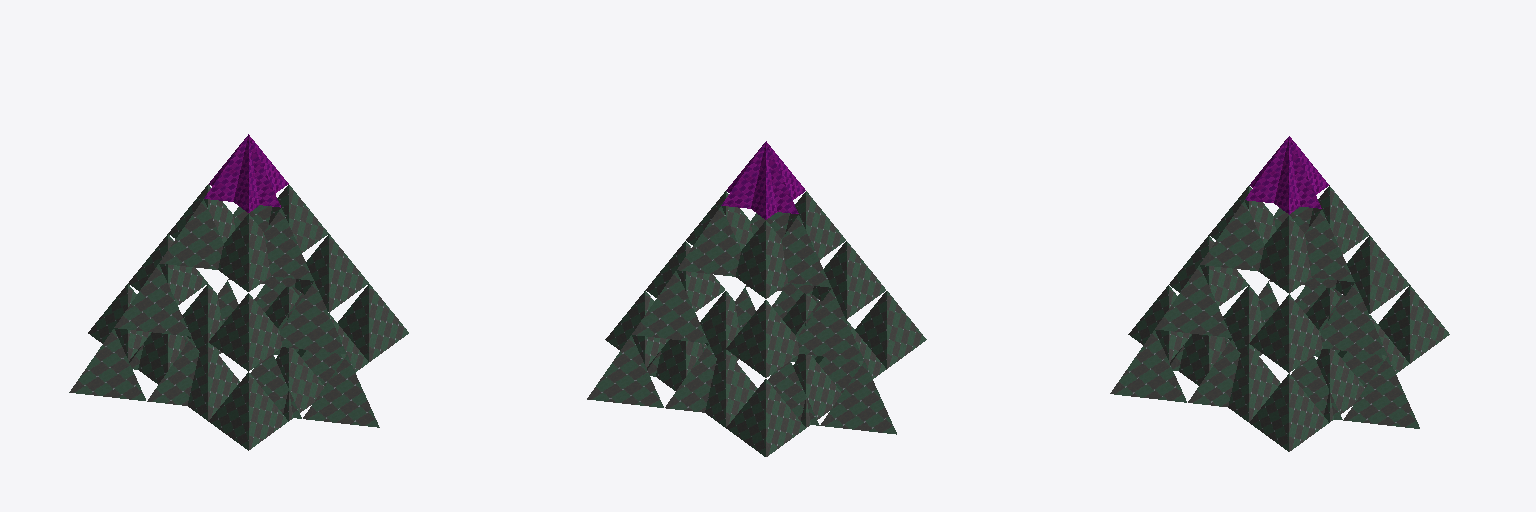
3 views of the same model, side by side, from view 1: azimuth 30°, elevation 25°; view 2: azimuth 150°, elevation 25°; view 3: azimuth 270°, elevation 25° (orthographic).
Visible parts, largest first — view 1: Solid.013_Solid.018, Solid.012_Solid.017, Solid.002, Solid.001, Solid.011_Solid.001, Solid.010_Solid.001, Solid.013_Solid.001, Solid.005_Solid.006, Solid.012_Solid.001, Solid.000_Solid.001, Solid.014_Solid.019, Solid.005_Solid.001 (+15 smaller); view 2: Solid.010_Solid.015, Solid.011_Solid.016, Solid.013_Solid.018, Solid.007, Solid.008, Solid.010_Solid.001, Solid.012_Solid.017, Solid.011_Solid.001, Solid.000_Solid.005, Solid.006_Solid.001, Solid.009_Solid.014, Solid.000_Solid.001 (+15 smaller); view 3: Solid.002, Solid.001, Solid.010_Solid.015, Solid.012_Solid.001, Solid.007, Solid.011_Solid.016, Solid.013_Solid.001, Solid.006_Solid.007, Solid.008, Solid.005_Solid.001, Solid.003, Solid.006_Solid.001 (+15 smaller).
Part boxes in pixels (x1,y1,x2,y2): Solid.013_Solid.018: (208, 372, 288, 450); Solid.012_Solid.017: (209, 293, 281, 371); Solid.002: (338, 284, 408, 361); Solid.001: (295, 234, 368, 312); Solid.011_Solid.001: (114, 264, 191, 336); Solid.010_Solid.001: (69, 329, 145, 400); Solid.013_Solid.001: (303, 355, 379, 427); Solid.005_Solid.006: (218, 214, 270, 291); Solid.012_Solid.001: (280, 281, 346, 353); Solid.000_Solid.001: (159, 199, 223, 269); Solid.014_Solid.019: (188, 342, 239, 420); Solid.005_Solid.001: (264, 208, 313, 280); Solid.010_Solid.015: (726, 379, 805, 456); Solid.011_Solid.016: (726, 300, 799, 377); Solid.013_Solid.018: (855, 291, 926, 368); Solid.007: (587, 335, 663, 407); Solid.008: (632, 271, 708, 343); Solid.010_Solid.001: (820, 361, 896, 434); Solid.012_Solid.017: (812, 241, 885, 319); Solid.011_Solid.001: (797, 288, 863, 360); Solid.000_Solid.005: (736, 221, 787, 298); Solid.006_Solid.001: (677, 206, 740, 276); Solid.009_Solid.014: (705, 350, 757, 427); Solid.000_Solid.001: (782, 215, 831, 287); Solid.002: (1249, 373, 1328, 451); Solid.001: (1249, 294, 1322, 372); Solid.010_Solid.015: (1378, 285, 1449, 363); Solid.012_Solid.001: (1155, 265, 1231, 337); Solid.007: (1343, 356, 1419, 428); Solid.011_Solid.016: (1335, 235, 1409, 313); Solid.013_Solid.001: (1110, 330, 1186, 402); Solid.006_Solid.007: (1259, 215, 1311, 293); Solid.008: (1320, 283, 1387, 355); Solid.005_Solid.001: (1200, 200, 1264, 271); Solid.003: (1228, 344, 1280, 421); Solid.006_Solid.001: (1305, 210, 1354, 281).
Bounding box in the file's own units: 151 × 109 × 141.
2 materials, 2 textured.